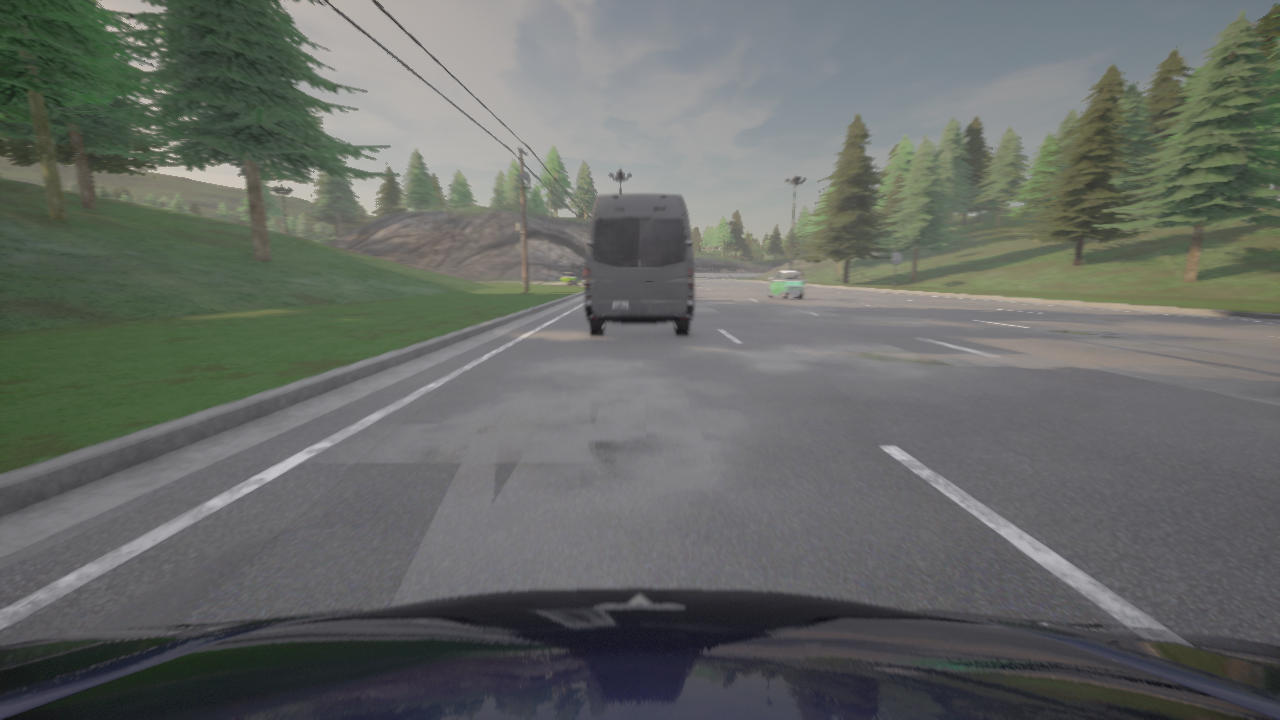cyclist: (0, 588, 1279, 719), (585, 194, 694, 335), (769, 270, 804, 299), (560, 272, 577, 284), (581, 265, 585, 285), (803, 277, 806, 287)
